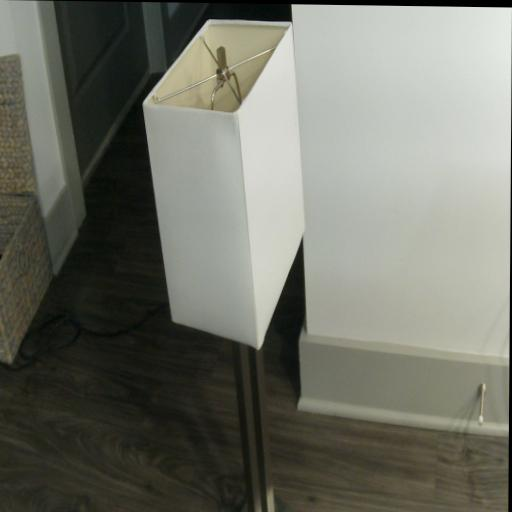lamp: (138, 16, 307, 512)
